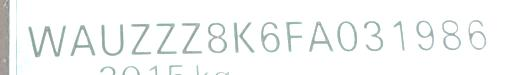letter: (26, 22, 66, 57), (229, 20, 259, 53), (98, 22, 128, 55), (68, 23, 96, 58), (306, 20, 334, 53), (152, 21, 180, 54), (332, 18, 358, 53), (178, 20, 204, 55), (464, 17, 490, 50), (360, 19, 386, 52), (438, 18, 462, 51), (412, 19, 436, 52), (282, 19, 306, 52), (386, 19, 410, 52), (204, 20, 228, 53), (128, 21, 152, 54), (258, 19, 280, 52)
